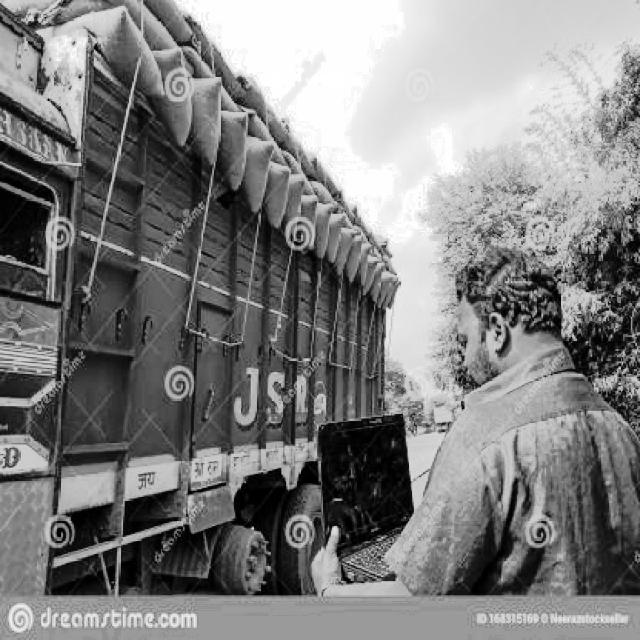HCV: (0, 0, 411, 588)
